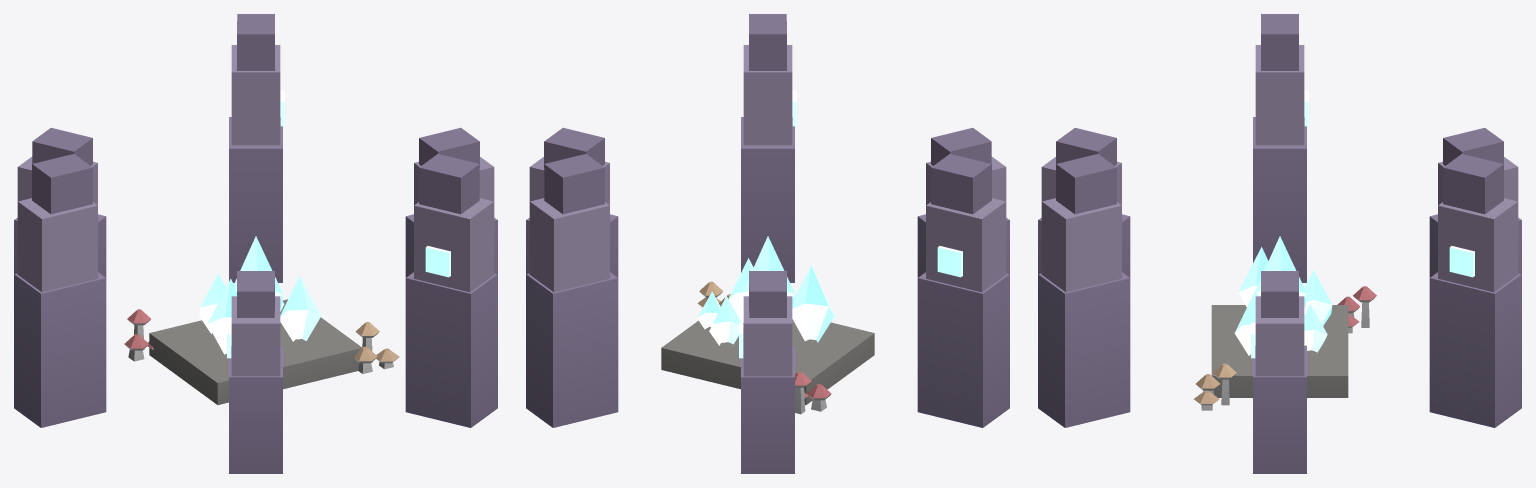
Rendered from moonstone-ring.glb.
3 renders of one model, left to right at view 1: azimuth 30°, elevation 25°; view 2: azimuth 150°, elevation 25°; view 3: azimuth 270°, elevation 25°, orthographic.
Parts seen in each view (by area): view 1: moonstone-ring_body, moonstone-ring_glow; view 2: moonstone-ring_body, moonstone-ring_glow; view 3: moonstone-ring_body, moonstone-ring_glow.
Boxes of the visible parts, x1,y1,x2,y2 form: moonstone-ring_body: [14, 14, 497, 473]; moonstone-ring_glow: [199, 90, 450, 358]; moonstone-ring_body: [526, 14, 1009, 473]; moonstone-ring_glow: [697, 90, 962, 358]; moonstone-ring_body: [1038, 14, 1521, 473]; moonstone-ring_glow: [1234, 90, 1474, 358].
Bounding box in the file's own units: 9.8 × 5 × 8.99.
